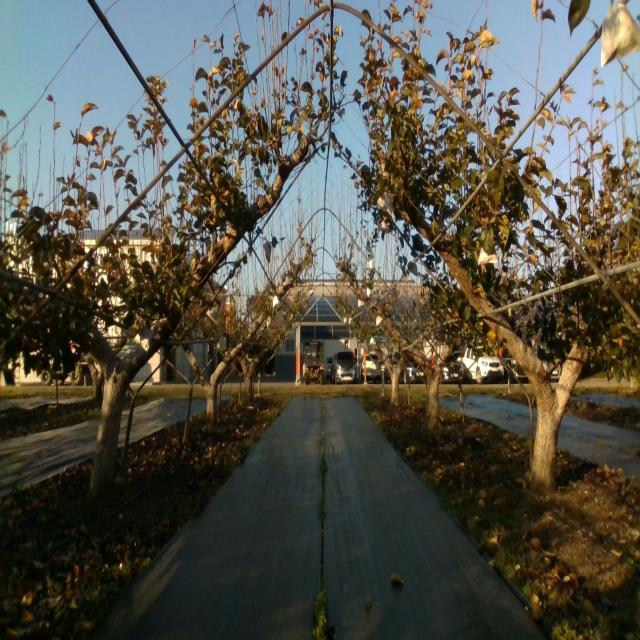pearbags: (134, 326, 153, 352), (477, 243, 497, 267), (377, 192, 393, 216)
